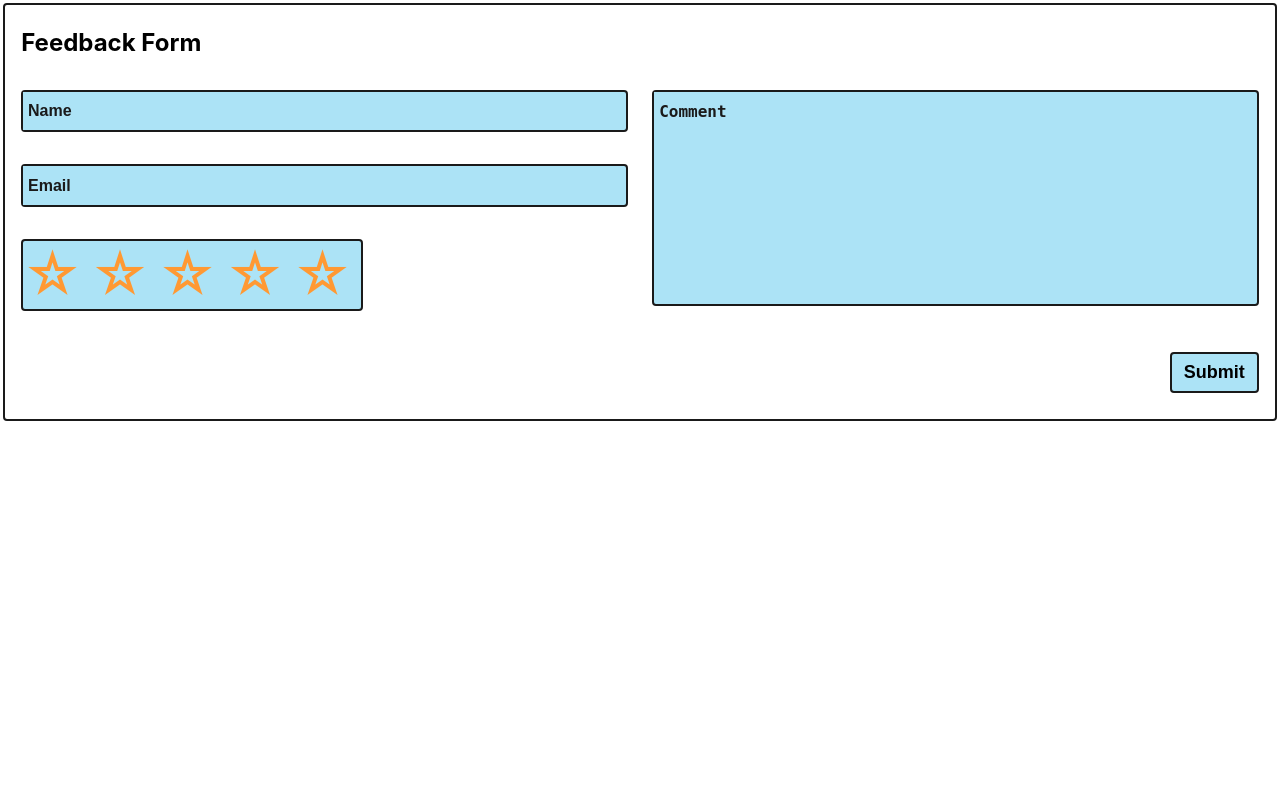
Test case: when feedback renders with issue › should display correct error message when all field are empty
Click the button with test id "reuseable-button" at (1214, 373), box [1170, 352, 1259, 393]
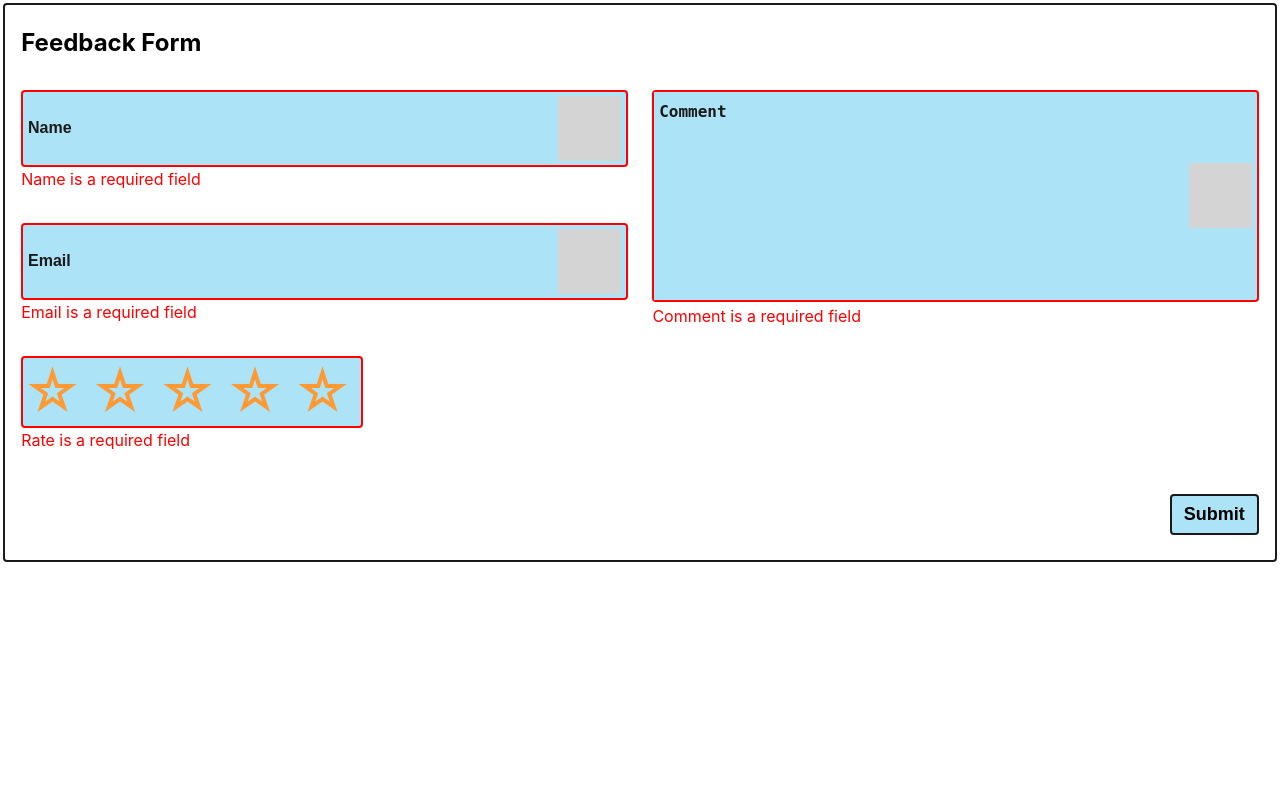
Check: the text "name is a required field" is shown, box [21, 169, 201, 189]
Check: the text "email is a required field" is shown, box [21, 302, 197, 322]
Check: the text "rate is a required field" is shown, box [21, 430, 190, 450]
